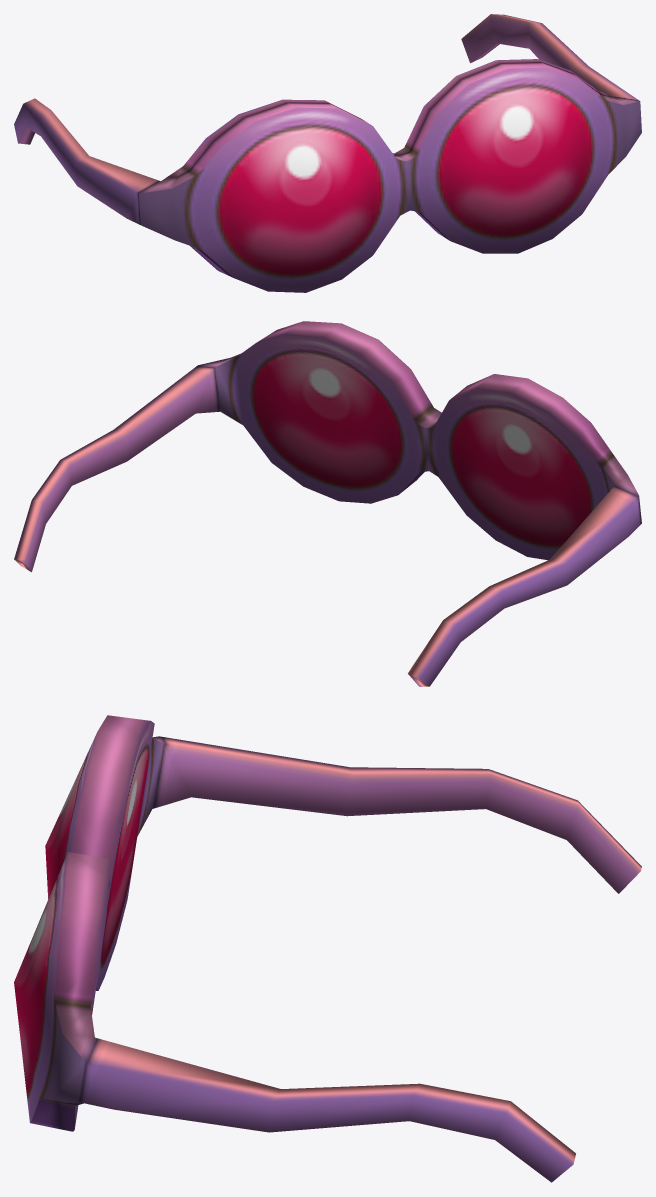
File: Glasses.dae
3 renders of one model, top to bottom at view 1: azimuth 30°, elevation 25°; view 2: azimuth 150°, elevation 25°; view 3: azimuth 270°, elevation 25°, orthographic. The views are drawn at different scales.
Visible parts, largest first — view 1: glass; view 2: glass; view 3: glass.
Boxes of the visible parts, box(x1,y1,x2,y2) form: glass: box(14, 14, 641, 292); glass: box(14, 321, 641, 686); glass: box(14, 715, 641, 1182).
Bounding box in the file's own units: 0.628 × 0.4974 × 0.2178.
Materials: 1 (1 with a texture image).
